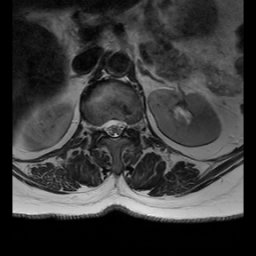CCS_normal: (110, 112, 118, 145)
LFS_stenosis: (127, 112, 135, 136)
LLS_normal: (118, 112, 127, 139)
RFS_stenosis: (96, 115, 103, 138)
RLS_normal: (103, 114, 110, 140)
